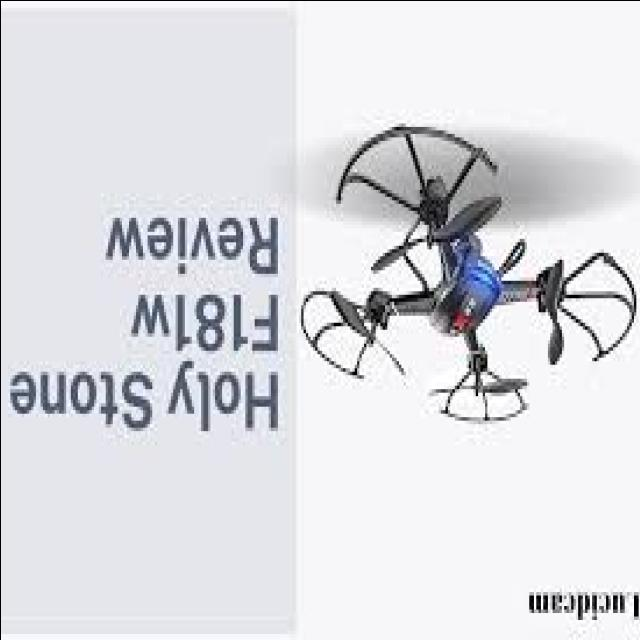drone: (301, 121, 635, 434)
